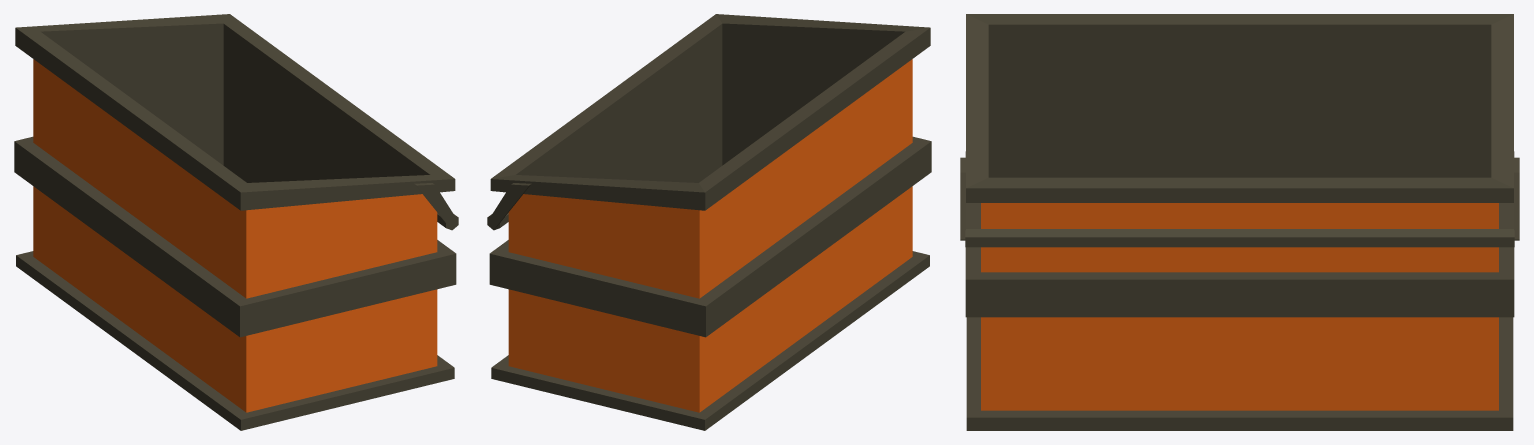
Rendered from Caixa de Lixo.fbx.
The picture shows the model from 3 angles, left to right: view 1: azimuth 30°, elevation 25°; view 2: azimuth 150°, elevation 25°; view 3: azimuth 270°, elevation 25°; orthographic projection. The views are drawn at different scales.
Visible parts, largest first — view 1: Caixa de Lixo; view 2: Caixa de Lixo; view 3: Caixa de Lixo.
Boxes of the visible parts, left/top/right/bottom form: Caixa de Lixo: left=14, top=14, right=458, bottom=430; Caixa de Lixo: left=487, top=14, right=931, bottom=430; Caixa de Lixo: left=960, top=14, right=1519, bottom=430.
Size of the model in its own units: 229 by 239 by 418.
